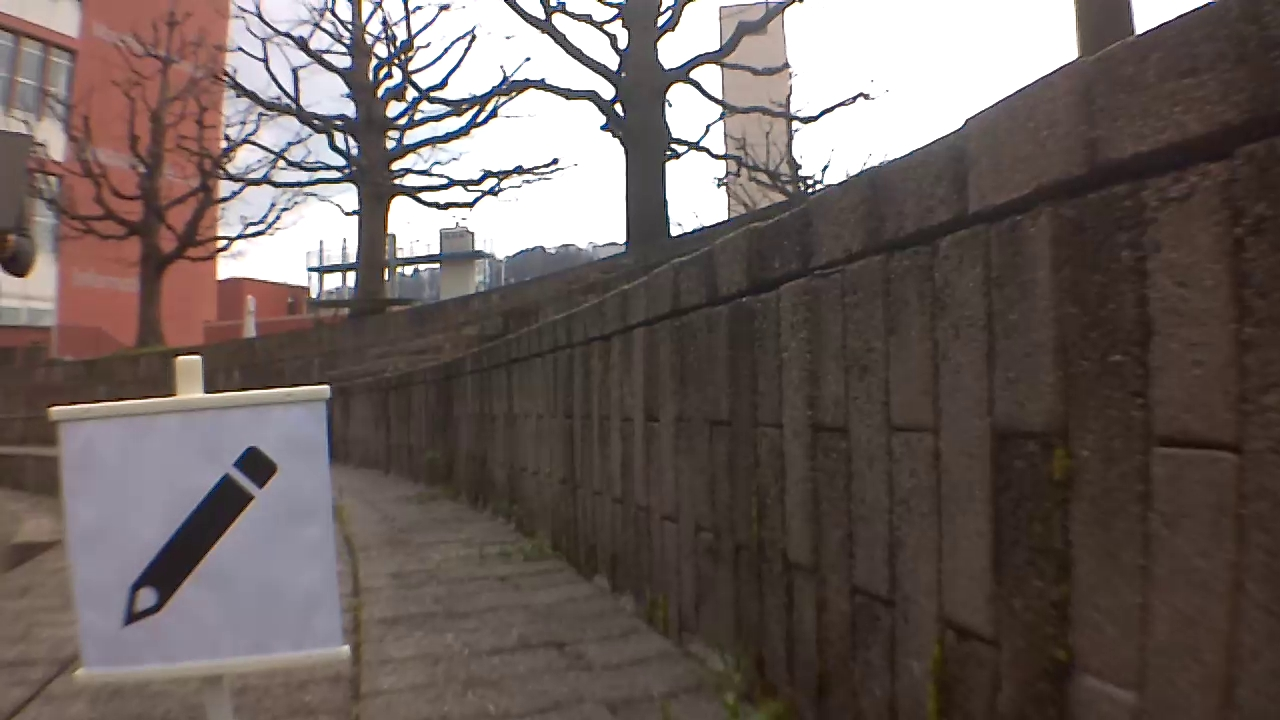pencil: (118, 440, 292, 631)
